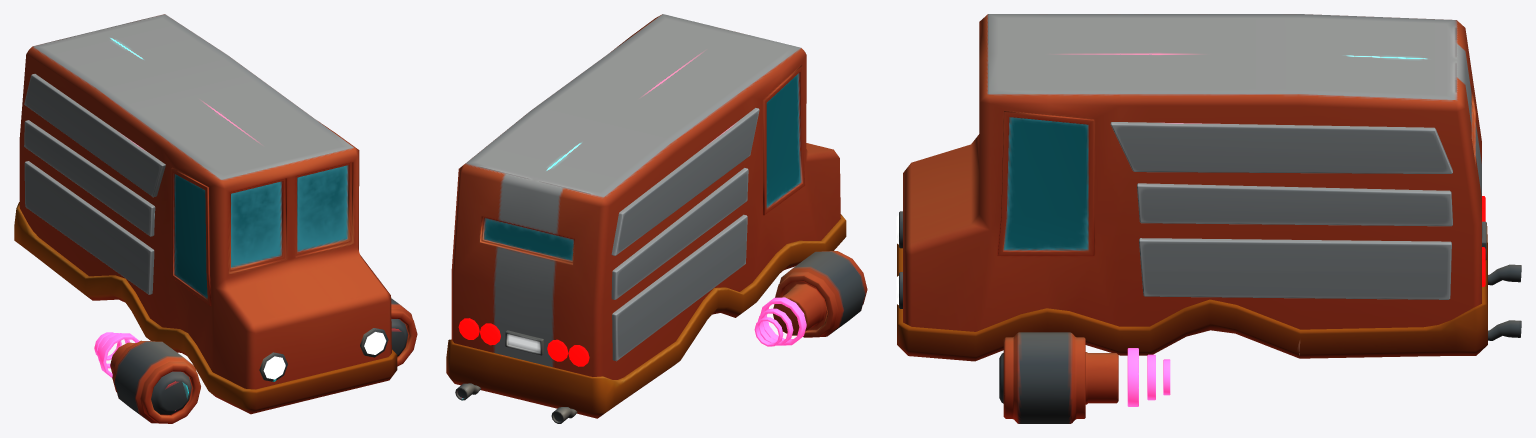
Rendered from Car_1.fbx.
The picture shows the model from 3 angles, left to right: view 1: azimuth 30°, elevation 25°; view 2: azimuth 150°, elevation 25°; view 3: azimuth 270°, elevation 25°; orthographic projection. The views are drawn at different scales.
Parts seen in each view (by area): view 1: Car_1; view 2: Car_1; view 3: Car_1.
Boxes of the visible parts, left/top/right/bottom form: Car_1: left=14, top=14, right=417, bottom=423; Car_1: left=446, top=14, right=867, bottom=423; Car_1: left=896, top=14, right=1521, bottom=423.
Bounding box in the file's own units: 721 × 596 × 1124.
